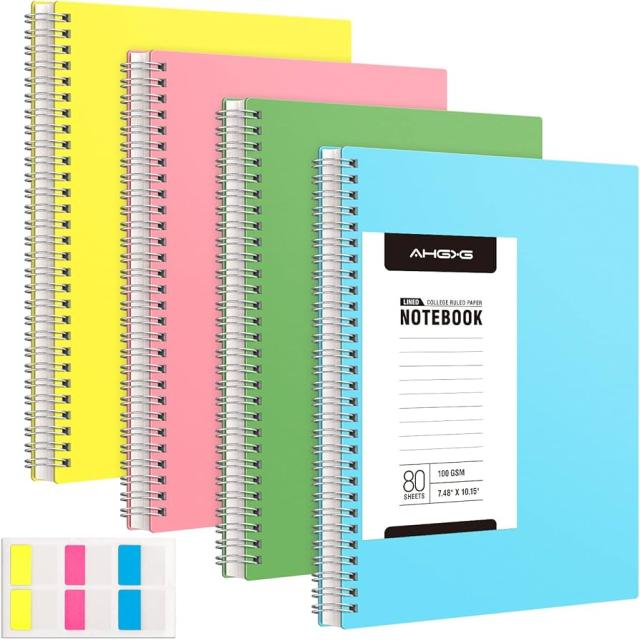notebook: (0, 22, 639, 639), (296, 136, 639, 639)
